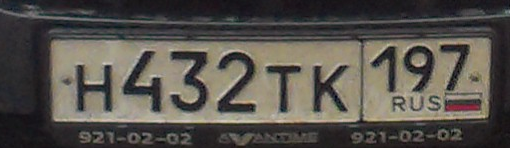character: (214, 46, 260, 117), (120, 49, 166, 119), (167, 48, 212, 114), (309, 58, 354, 116), (73, 55, 115, 116), (265, 60, 305, 119), (435, 38, 474, 91), (370, 42, 402, 95), (403, 40, 435, 92)
